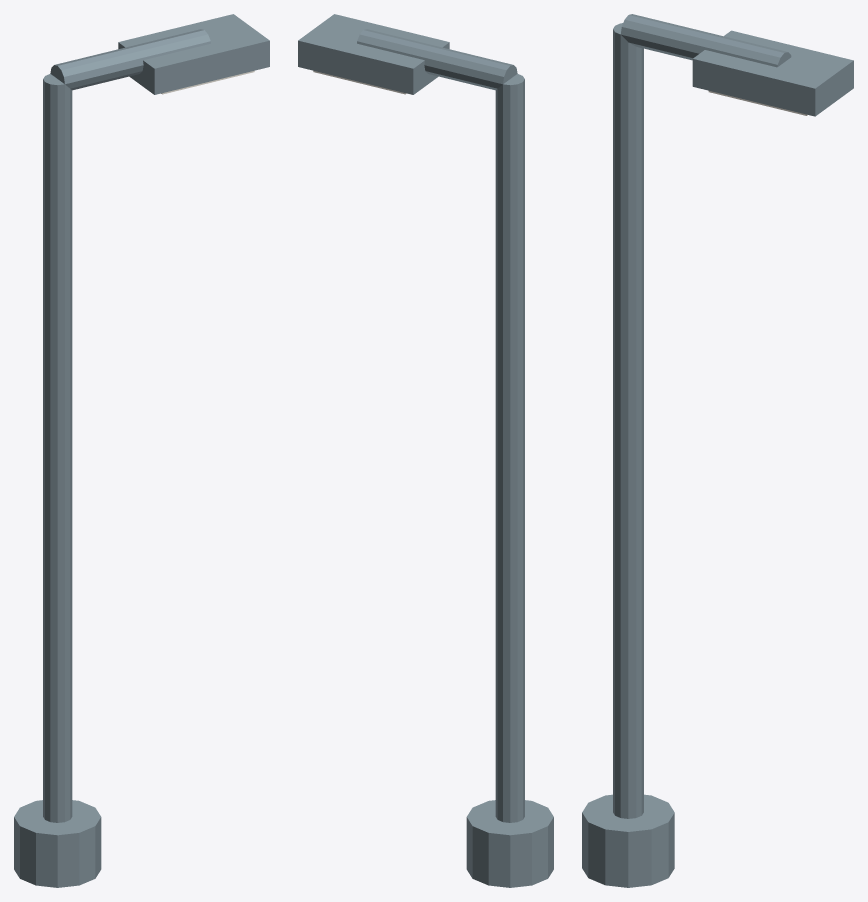
File: street_lamp.glb
3 renders of one model, left to right at view 1: azimuth 30°, elevation 25°; view 2: azimuth 150°, elevation 25°; view 3: azimuth 330°, elevation 25°, orthographic. The views are drawn at different scales.
Parts seen in each view (by area): view 1: street_lamp_001, street_lamp_000, street_lamp_003, street_lamp_002; view 2: street_lamp_001, street_lamp_000, street_lamp_003, street_lamp_002; view 3: street_lamp_001, street_lamp_003, street_lamp_000, street_lamp_002.
Part boxes in pixels (x1,y1,x2,y2): street_lamp_001: (43,73,72,822); street_lamp_000: (14,800,101,887); street_lamp_003: (118,14,269,94); street_lamp_002: (50,29,210,90); street_lamp_001: (495,73,524,822); street_lamp_000: (466,800,553,887); street_lamp_003: (298,14,449,94); street_lamp_002: (357,29,517,90); street_lamp_001: (613,23,643,818); street_lamp_003: (692,30,853,116); street_lamp_000: (582,794,674,887); street_lamp_002: (620,14,791,67).
Size of the model in its own units: 1.1 by 3.66 by 0.36.
